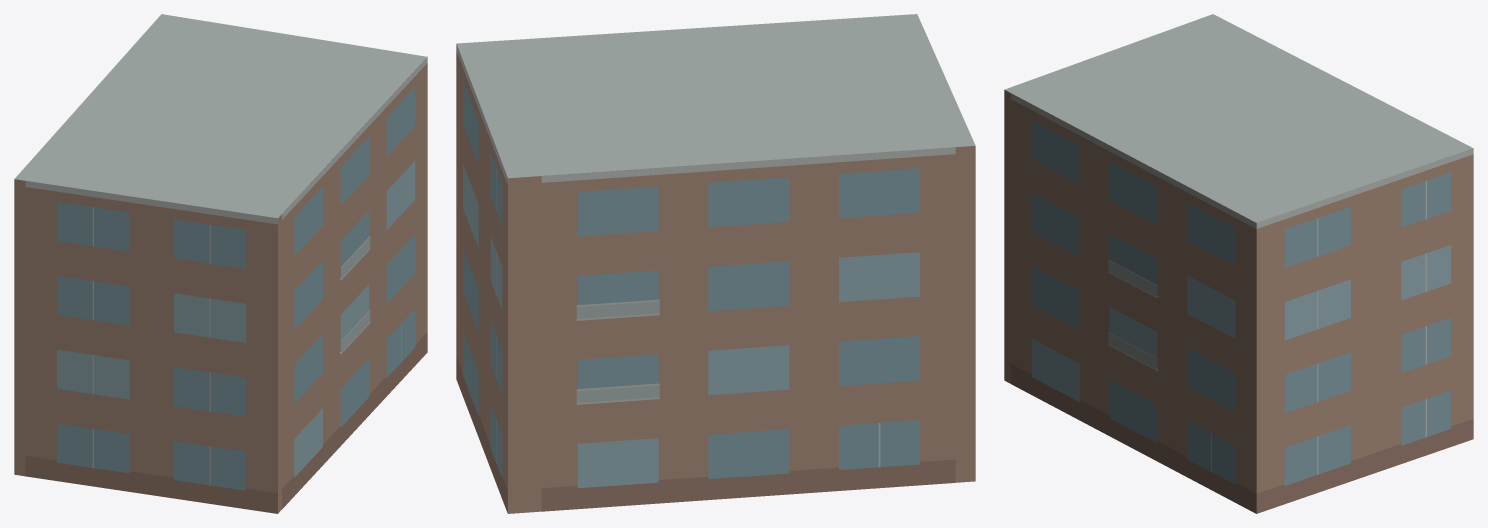
Rendered from survey-upis-32639357.glb.
3 views of the same model, side by side, from view 1: azimuth 30°, elevation 25°; view 2: azimuth 150°, elevation 25°; view 3: azimuth 270°, elevation 25° (orthographic). The views are drawn at different scales.
Parts seen in each view (by area): view 1: survey-upis-32639357.tmp; view 2: survey-upis-32639357.tmp; view 3: survey-upis-32639357.tmp.
Boxes of the visible parts, x1=… form: survey-upis-32639357.tmp: x1=14, y1=14, x2=427, y2=513; survey-upis-32639357.tmp: x1=456, y1=14, x2=975, y2=513; survey-upis-32639357.tmp: x1=1004, y1=14, x2=1473, y2=513.
Bounding box in the file's own units: 18.03 × 11.7 × 17.11.
